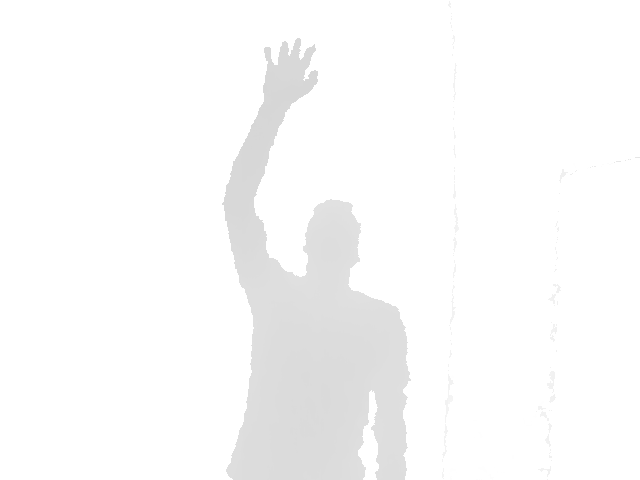hand: (261, 37, 320, 105)
head: (302, 198, 362, 290)
person: (221, 37, 410, 480)
